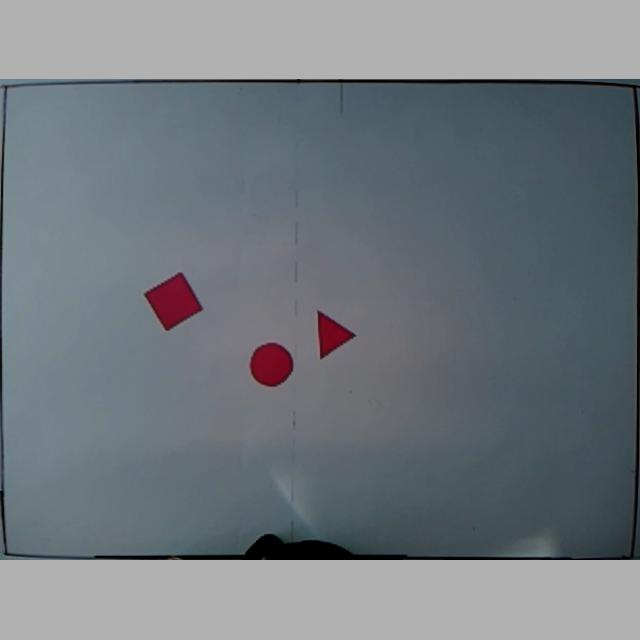pinkCircle: (248, 342, 296, 390)
pinkSquare: (142, 274, 204, 334)
pinkTriangle: (314, 312, 356, 362)
